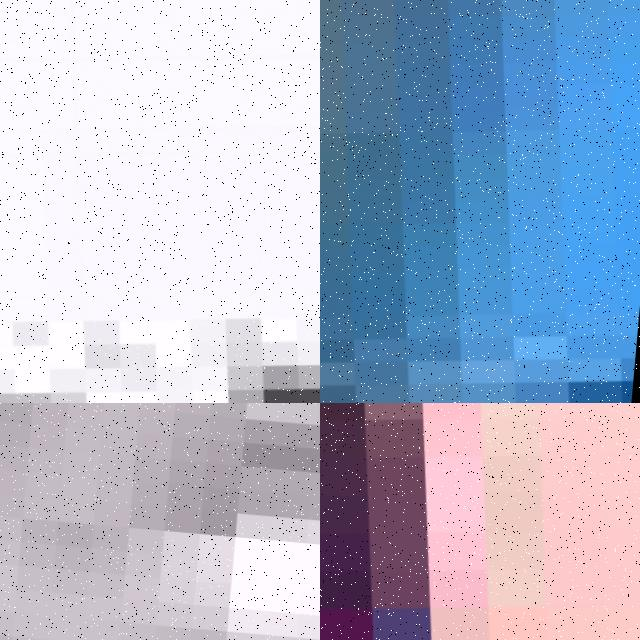0: (0, 0, 320, 403)
drone: (320, 0, 640, 403), (320, 403, 640, 640)
